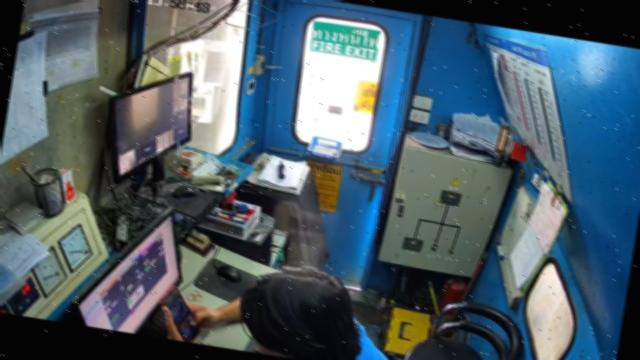Head: (232, 254, 371, 360)
People: (156, 242, 415, 360)
Phone: (157, 284, 203, 341)
